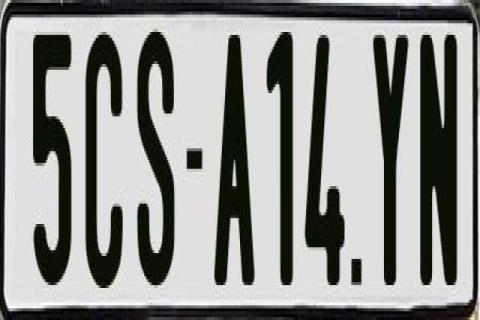0: (304, 29, 350, 294), (30, 26, 70, 294), (265, 29, 296, 299)
A: (214, 29, 258, 288)
C: (86, 32, 126, 288)
N: (420, 29, 462, 288)
S: (138, 26, 177, 282)
Y: (370, 26, 406, 291)
